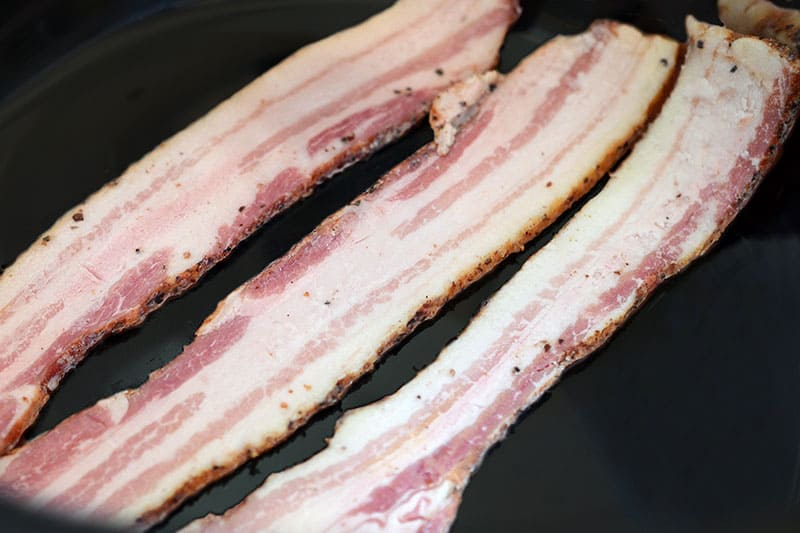bacon: (27, 20, 740, 491)
